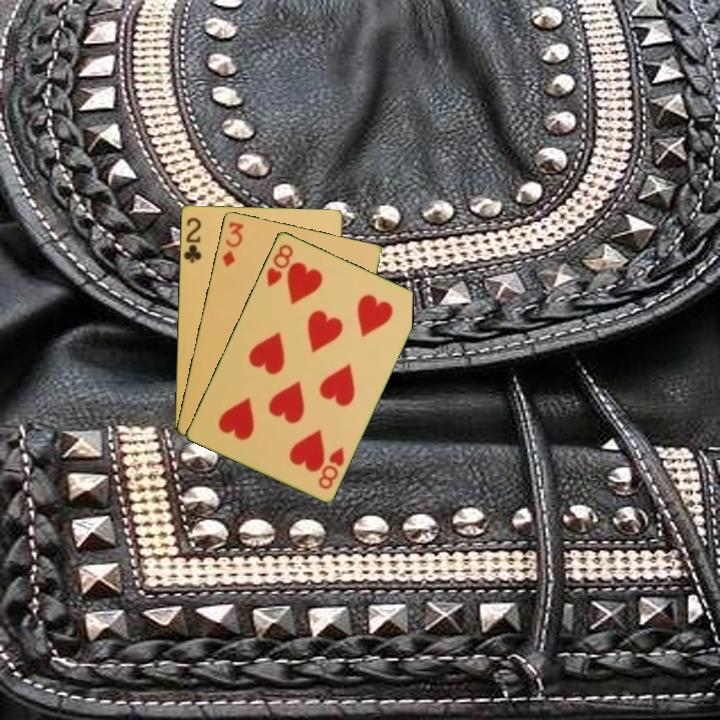2c: (180, 213, 204, 265)
3d: (218, 218, 246, 270)
8h: (263, 240, 296, 289), (314, 443, 347, 492)
